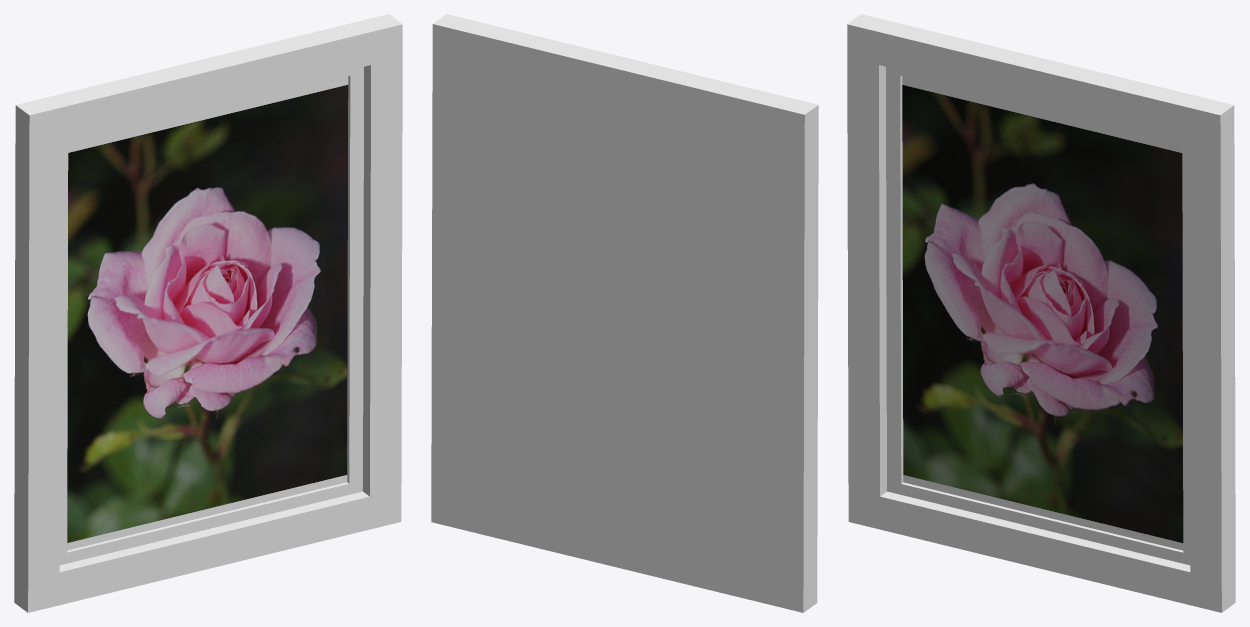
Rendered from Picture 5.FBX.
The picture shows the model from 3 angles, left to right: view 1: azimuth 30°, elevation 25°; view 2: azimuth 150°, elevation 25°; view 3: azimuth 330°, elevation 25°; orthographic projection.
Visible parts, largest first — view 1: picture 5; view 2: picture 5; view 3: picture 5.
Part boxes in pixels (left/top/right/bottom): picture 5: left=14, top=14, right=402, bottom=612; picture 5: left=431, top=14, right=818, bottom=612; picture 5: left=847, top=14, right=1235, bottom=612.
Bounding box in the file's own units: 53.24 × 67.97 × 3.79.
1 material, 1 textured.
